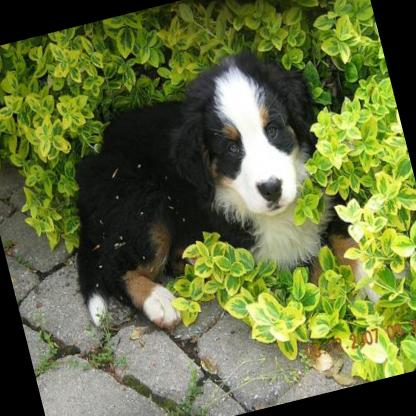Bernese_mountain_dog: (37, 29, 393, 374)
